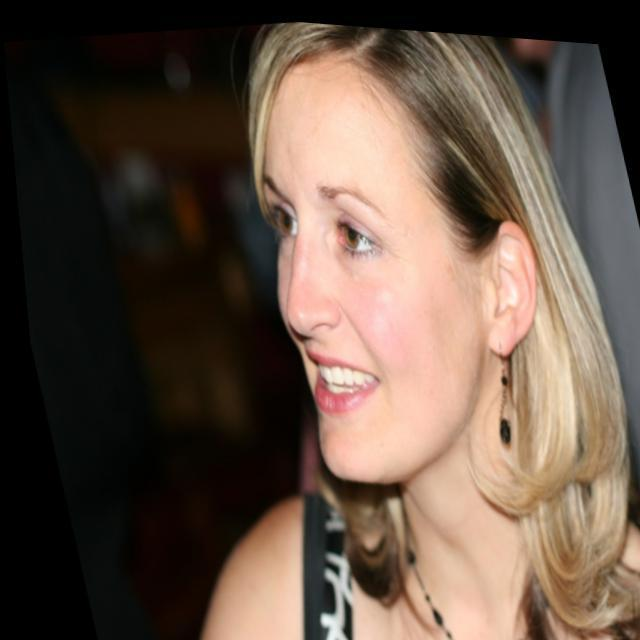Nonhelmet: (228, 0, 630, 496)
